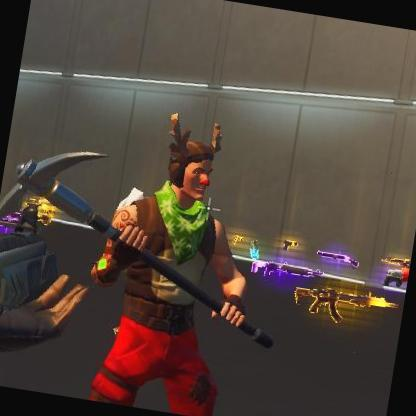person: (66, 123, 302, 416)
